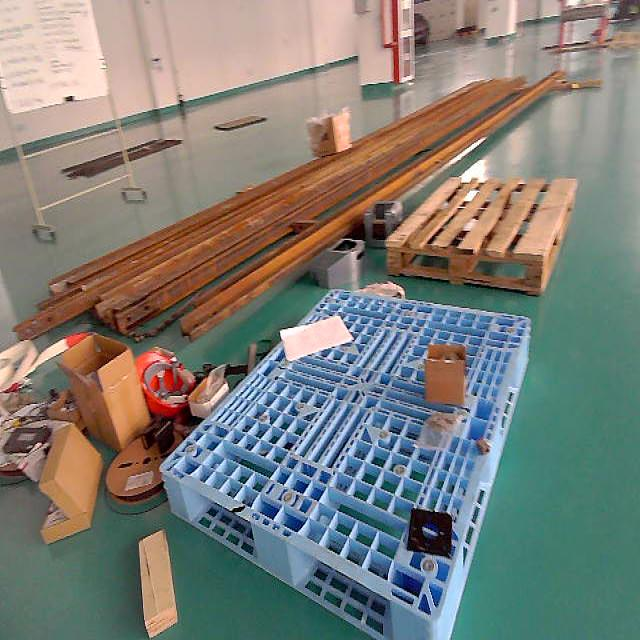euro: (386, 180, 575, 295)
